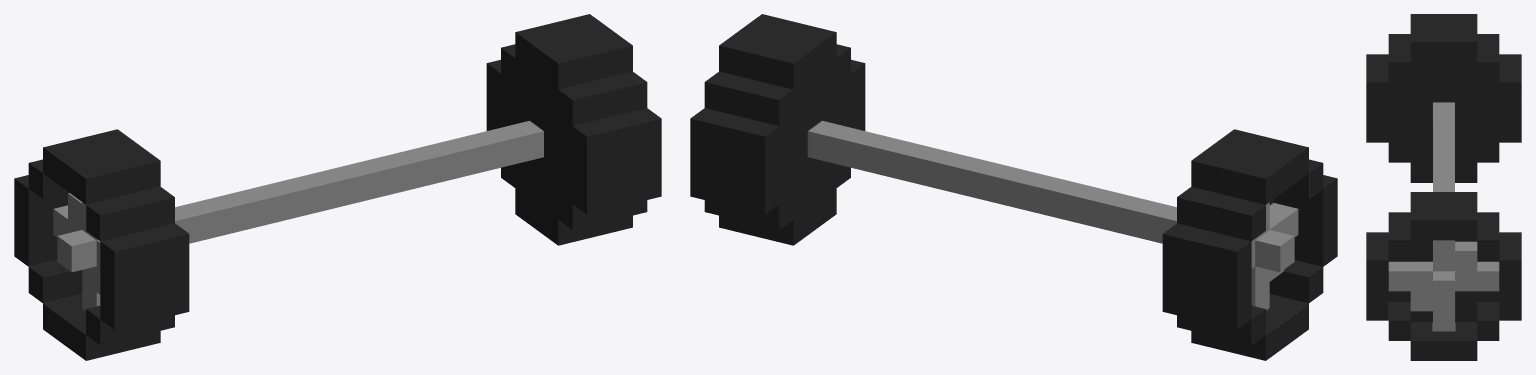
Rendered from Car_Rim.obj.
3 views of the same model, side by side, from view 1: azimuth 30°, elevation 25°; view 2: azimuth 150°, elevation 25°; view 3: azimuth 270°, elevation 25° (orthographic). The views are drawn at different scales.
Parts seen in each view (by area): view 1: Car_Rim_Car_Rim.004; view 2: Car_Rim_Car_Rim.004; view 3: Car_Rim_Car_Rim.004.
Boxes of the visible parts, x1=… form: Car_Rim_Car_Rim.004: x1=14, y1=14, x2=661, y2=360; Car_Rim_Car_Rim.004: x1=690, y1=14, x2=1337, y2=360; Car_Rim_Car_Rim.004: x1=1366, y1=14, x2=1521, y2=360.
Bounding box in the file's own units: 2.2 × 0.7 × 0.7.
